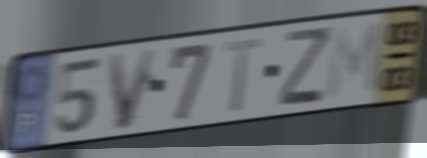5: (52, 55, 104, 137)
7: (168, 40, 214, 123)
M: (324, 18, 385, 104)
T: (223, 35, 265, 115)
V: (105, 44, 160, 134)
Z: (276, 23, 334, 108)
